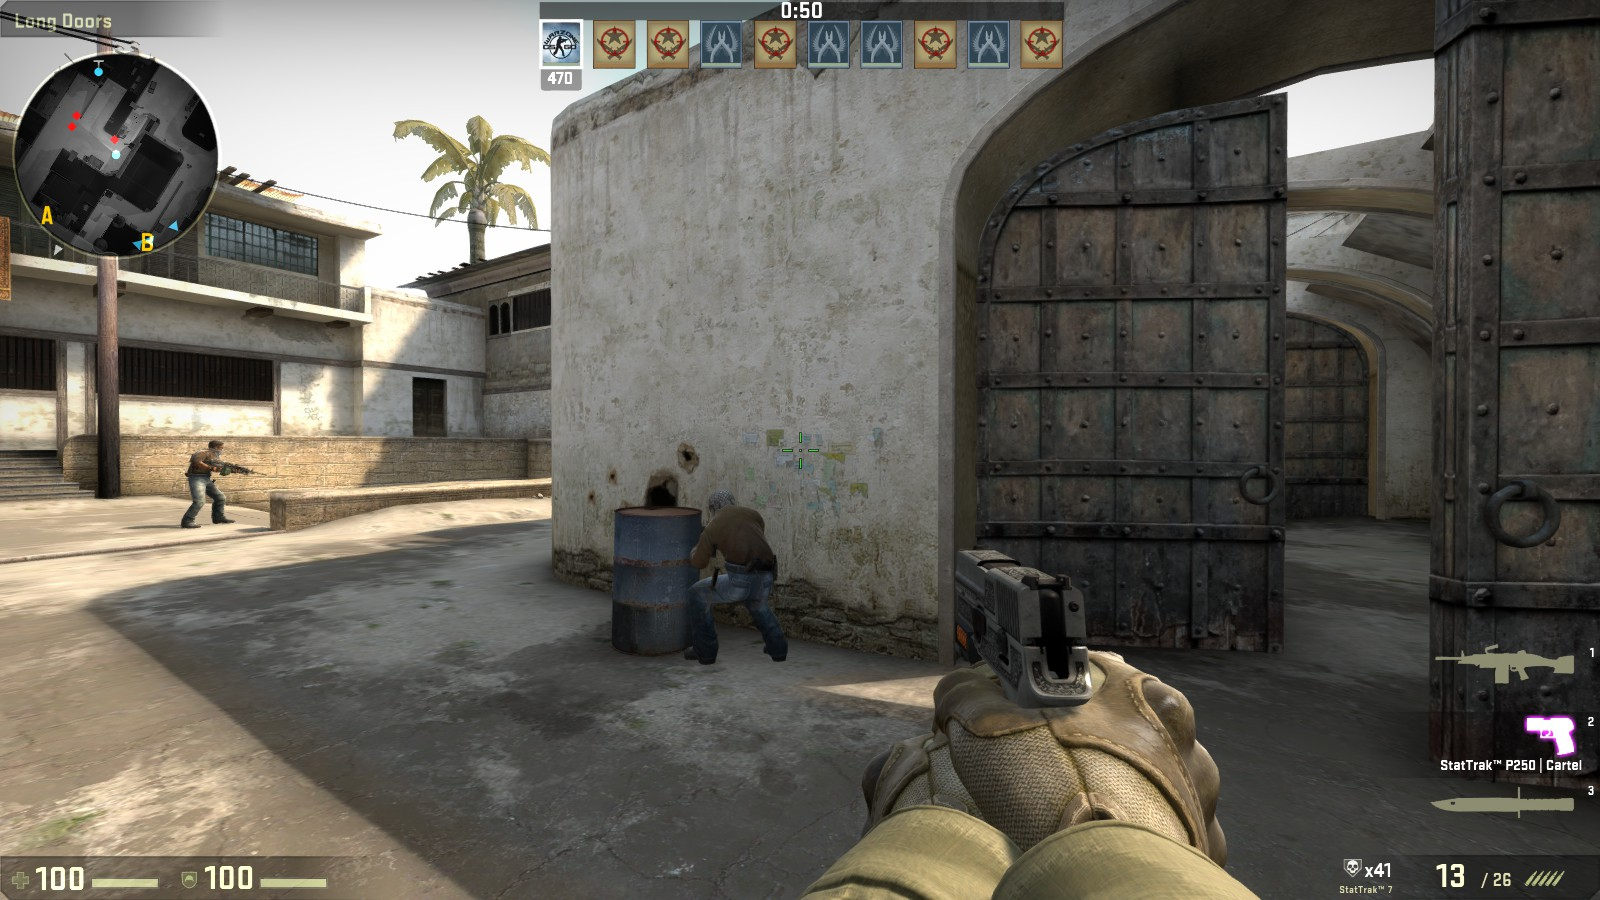t: (689, 491, 784, 662), (185, 436, 227, 526)
th: (698, 490, 744, 524), (201, 438, 227, 459)
